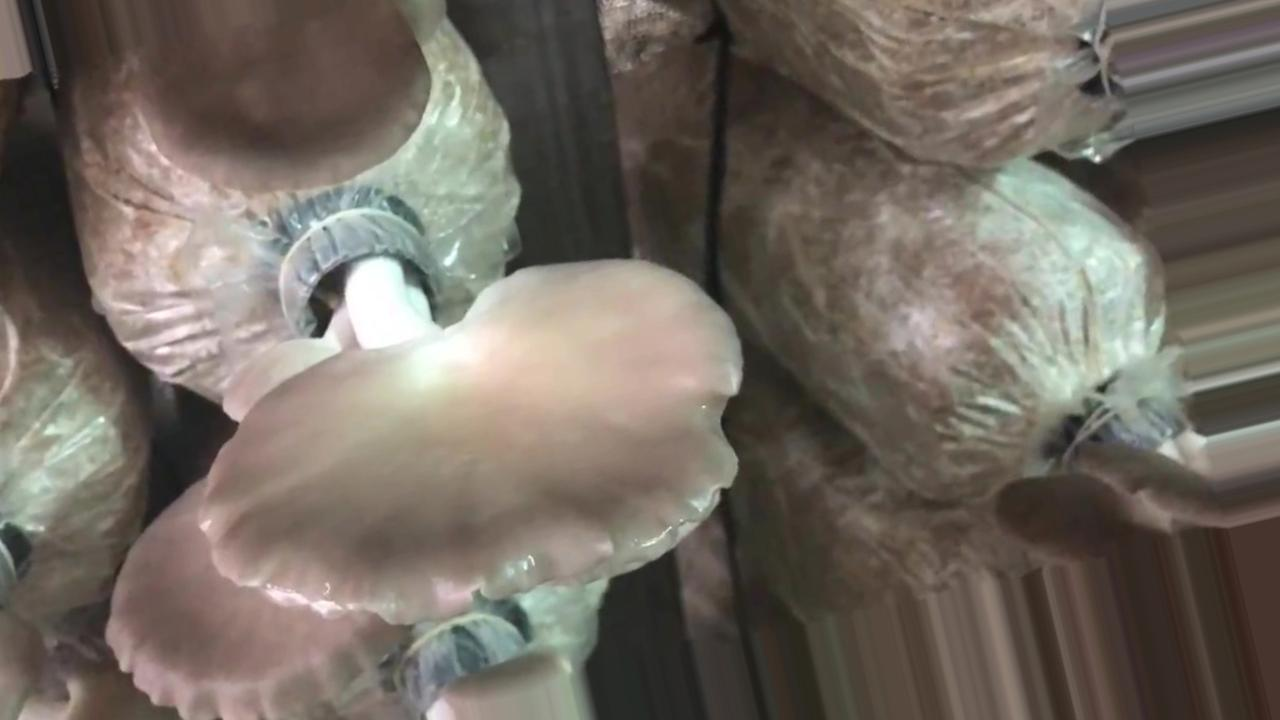nam: (200, 216, 748, 627), (110, 471, 374, 720), (141, 7, 434, 193), (998, 384, 1273, 567)
